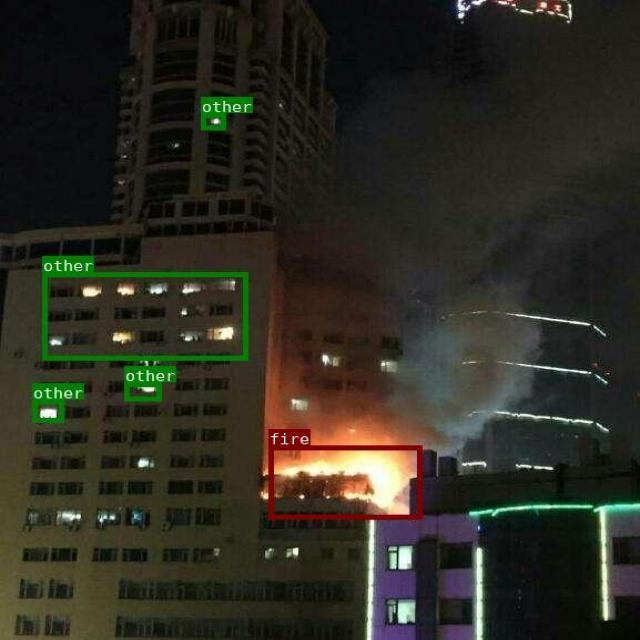fire: (269, 444, 421, 518)
